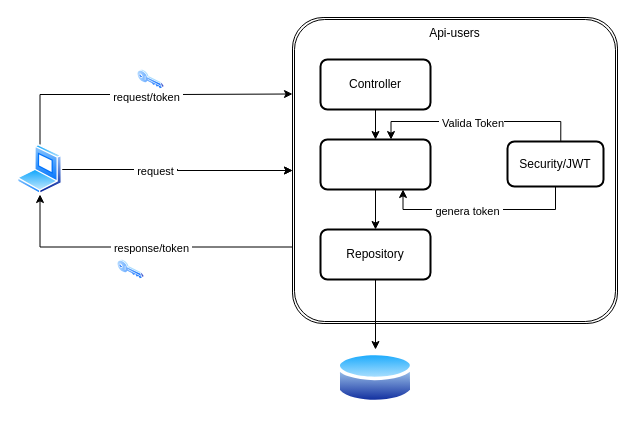
The diagram is 635 pixels wide and 448 high, and some of its shapes have lost their labels. The shapes that lost their labels are listed below. From the top down, each one's centre as x and y in pixels, then its label:
(375,164): Service
(375,377): HSQLDB
